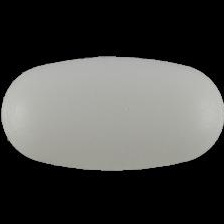58468-0130: (0, 0, 224, 224)
